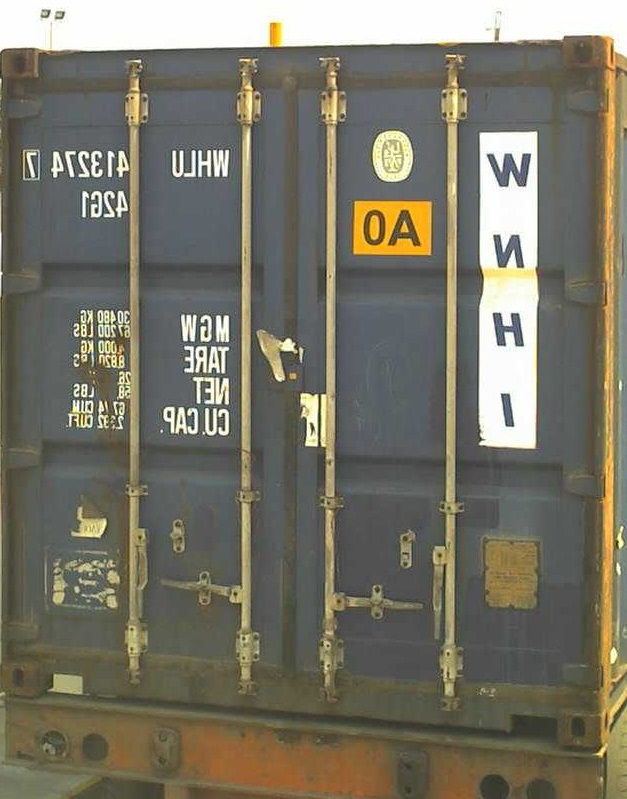container_door: (1, 42, 607, 752)
